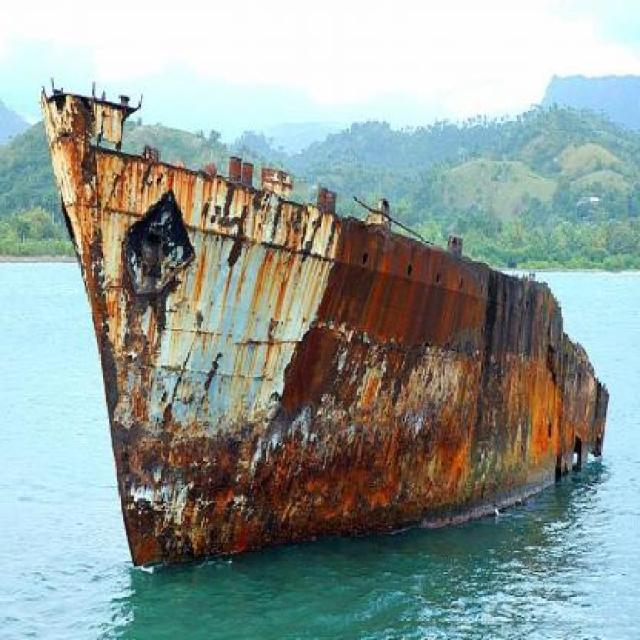corrosion: (41, 81, 612, 568)
